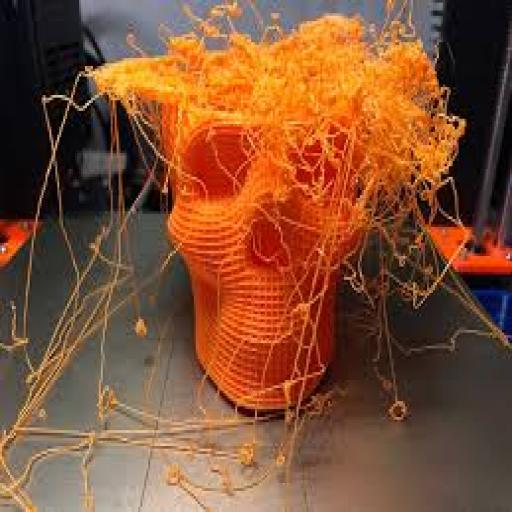spaghetti: (94, 0, 469, 179), (294, 175, 489, 451), (42, 112, 170, 498)
